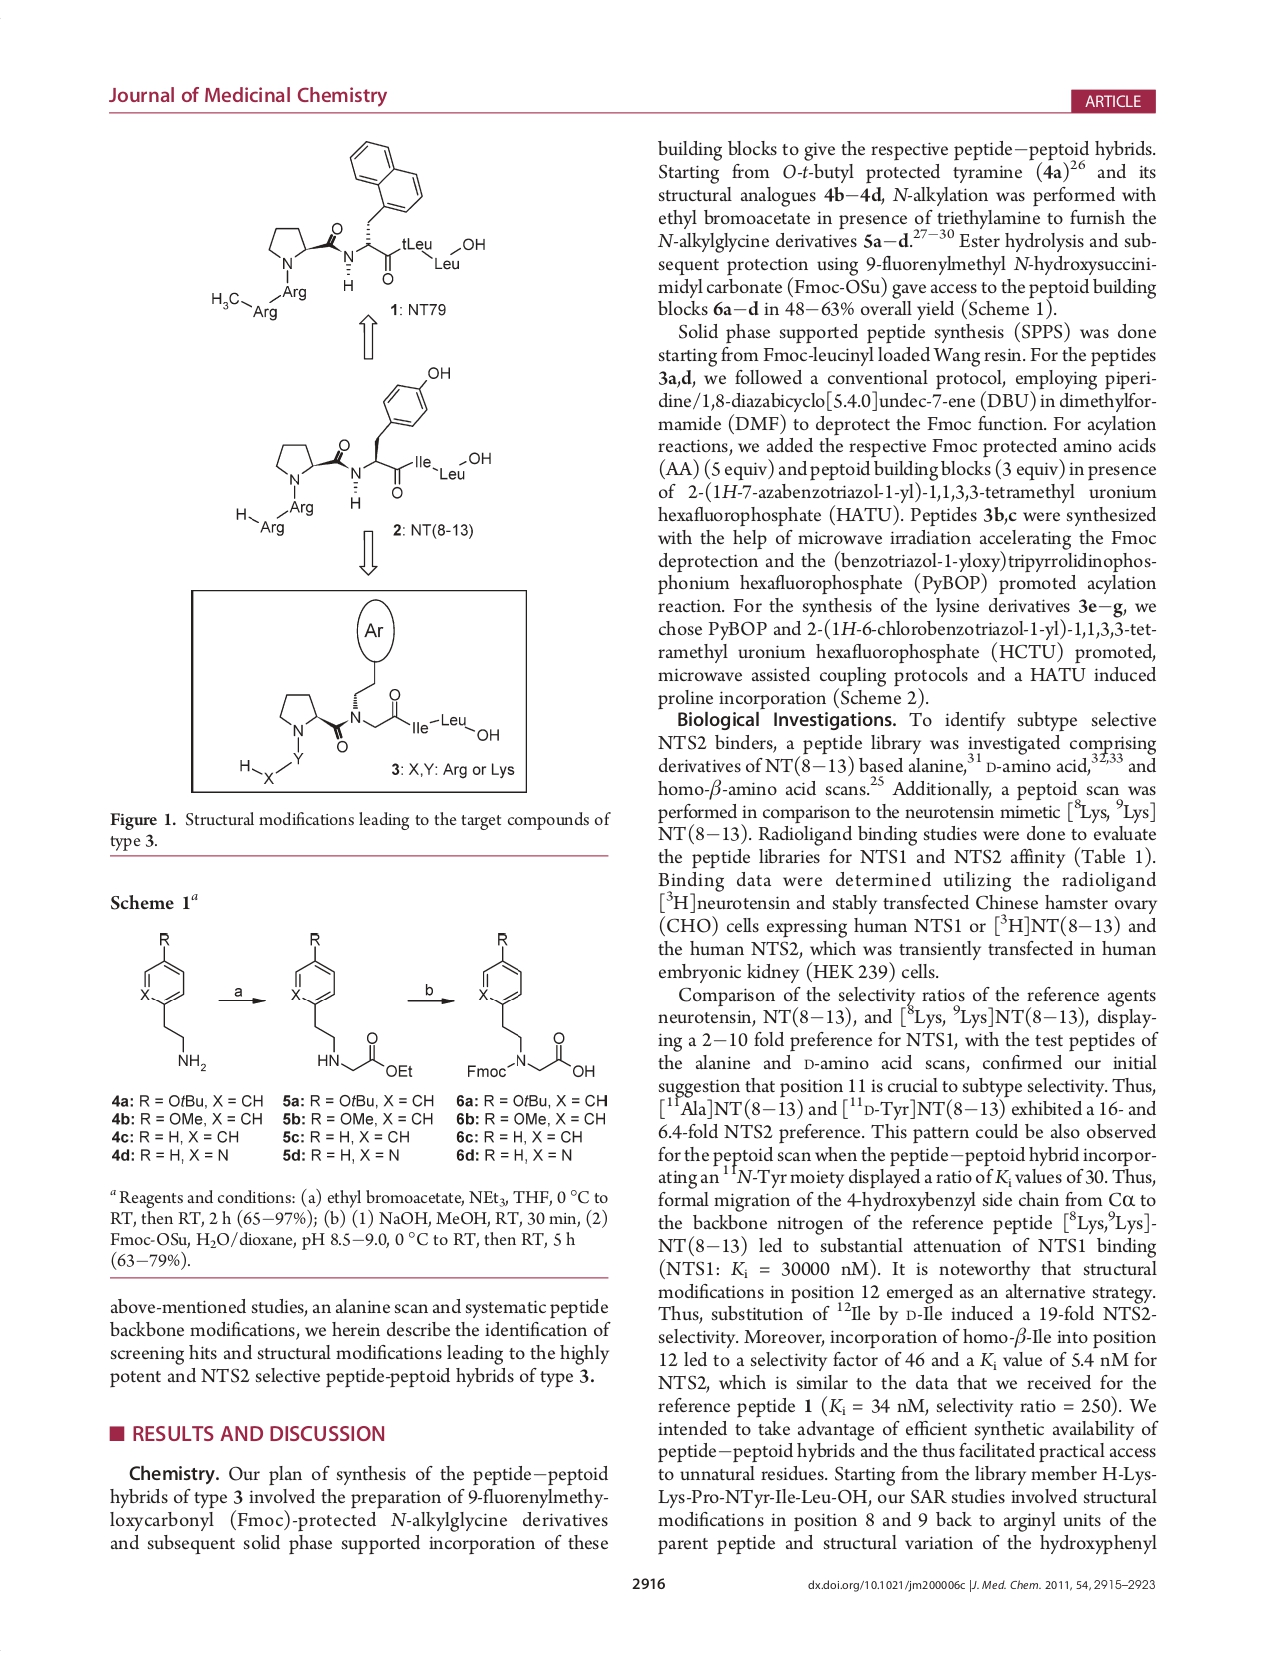exist_molecular: (205, 136, 488, 321), (235, 597, 503, 787), (231, 364, 496, 536), (465, 928, 600, 1083), (283, 930, 418, 1083), (129, 930, 215, 1076)
